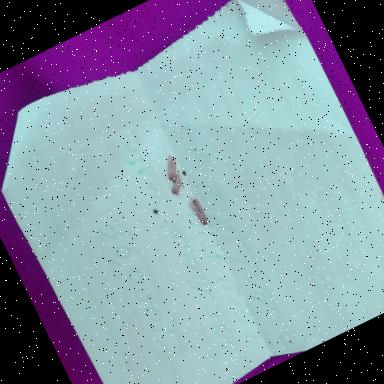pbw: (154, 152, 185, 186), (186, 192, 212, 227), (165, 171, 189, 197)
